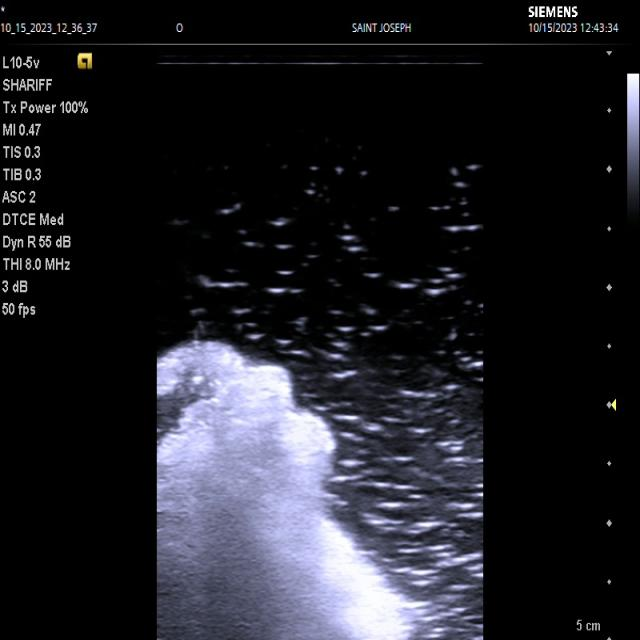tissue: (157, 342, 424, 640)
